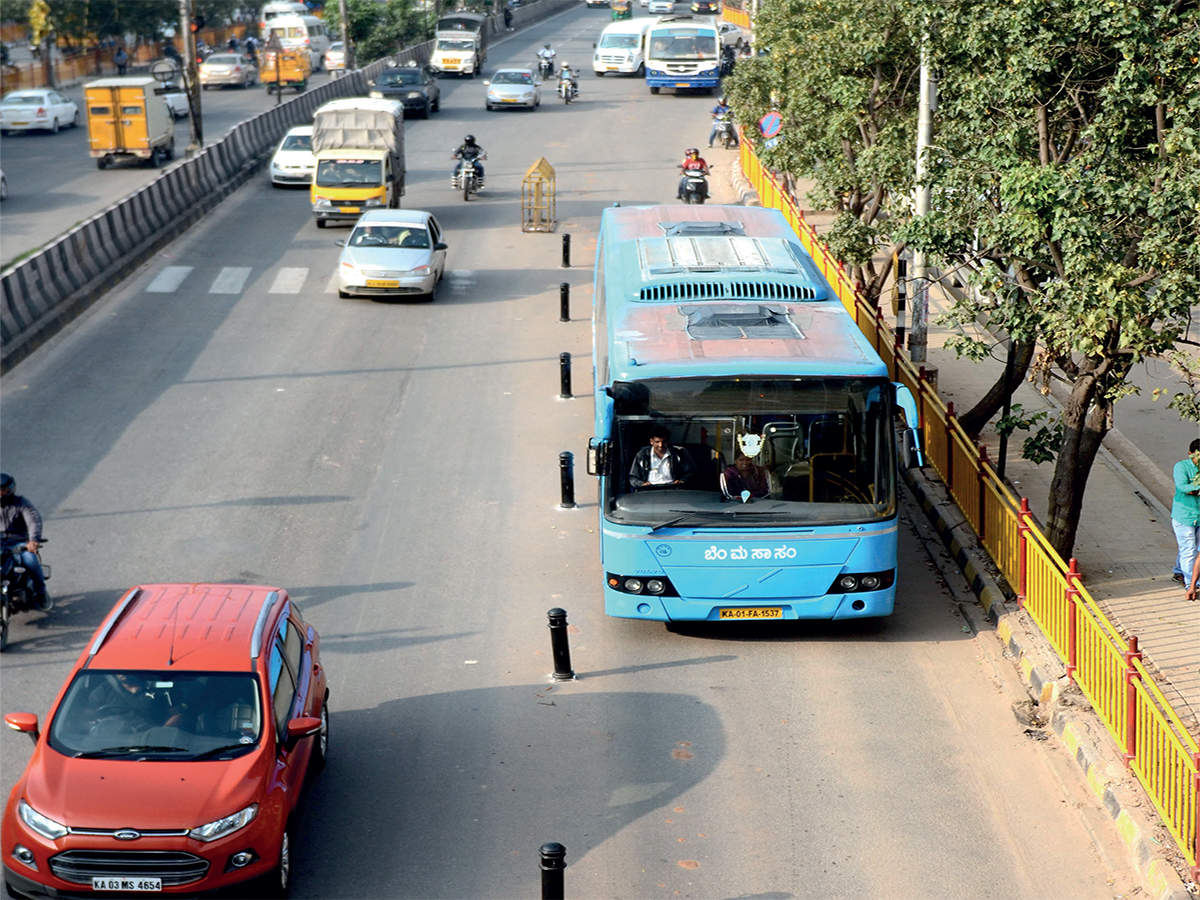bike: (1, 465, 57, 626), (666, 137, 732, 209), (447, 123, 496, 200), (699, 93, 743, 157), (555, 54, 579, 112), (537, 39, 562, 74)
bus: (591, 206, 924, 639), (641, 15, 724, 96)
car: (1, 570, 352, 900), (328, 195, 467, 305), (187, 34, 249, 98), (263, 123, 319, 187), (7, 88, 78, 138), (367, 60, 430, 112), (487, 64, 545, 113)
